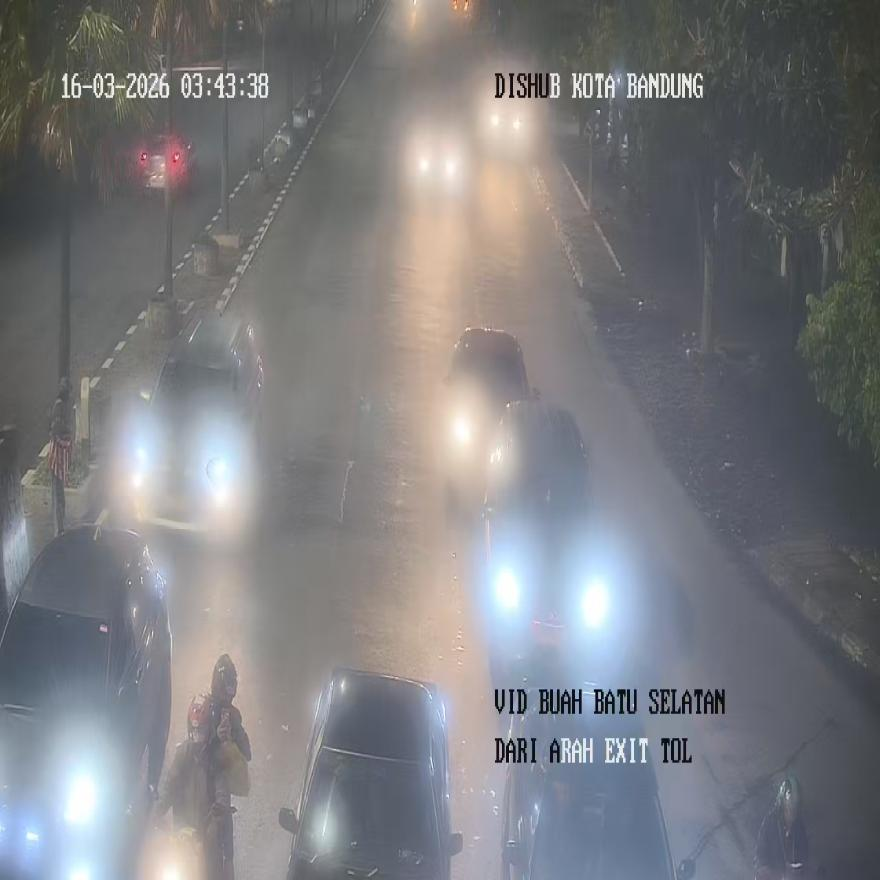Motor: (0, 524, 172, 878), (480, 396, 619, 689), (278, 666, 462, 878), (499, 680, 695, 878), (127, 309, 264, 534), (440, 325, 538, 504)
